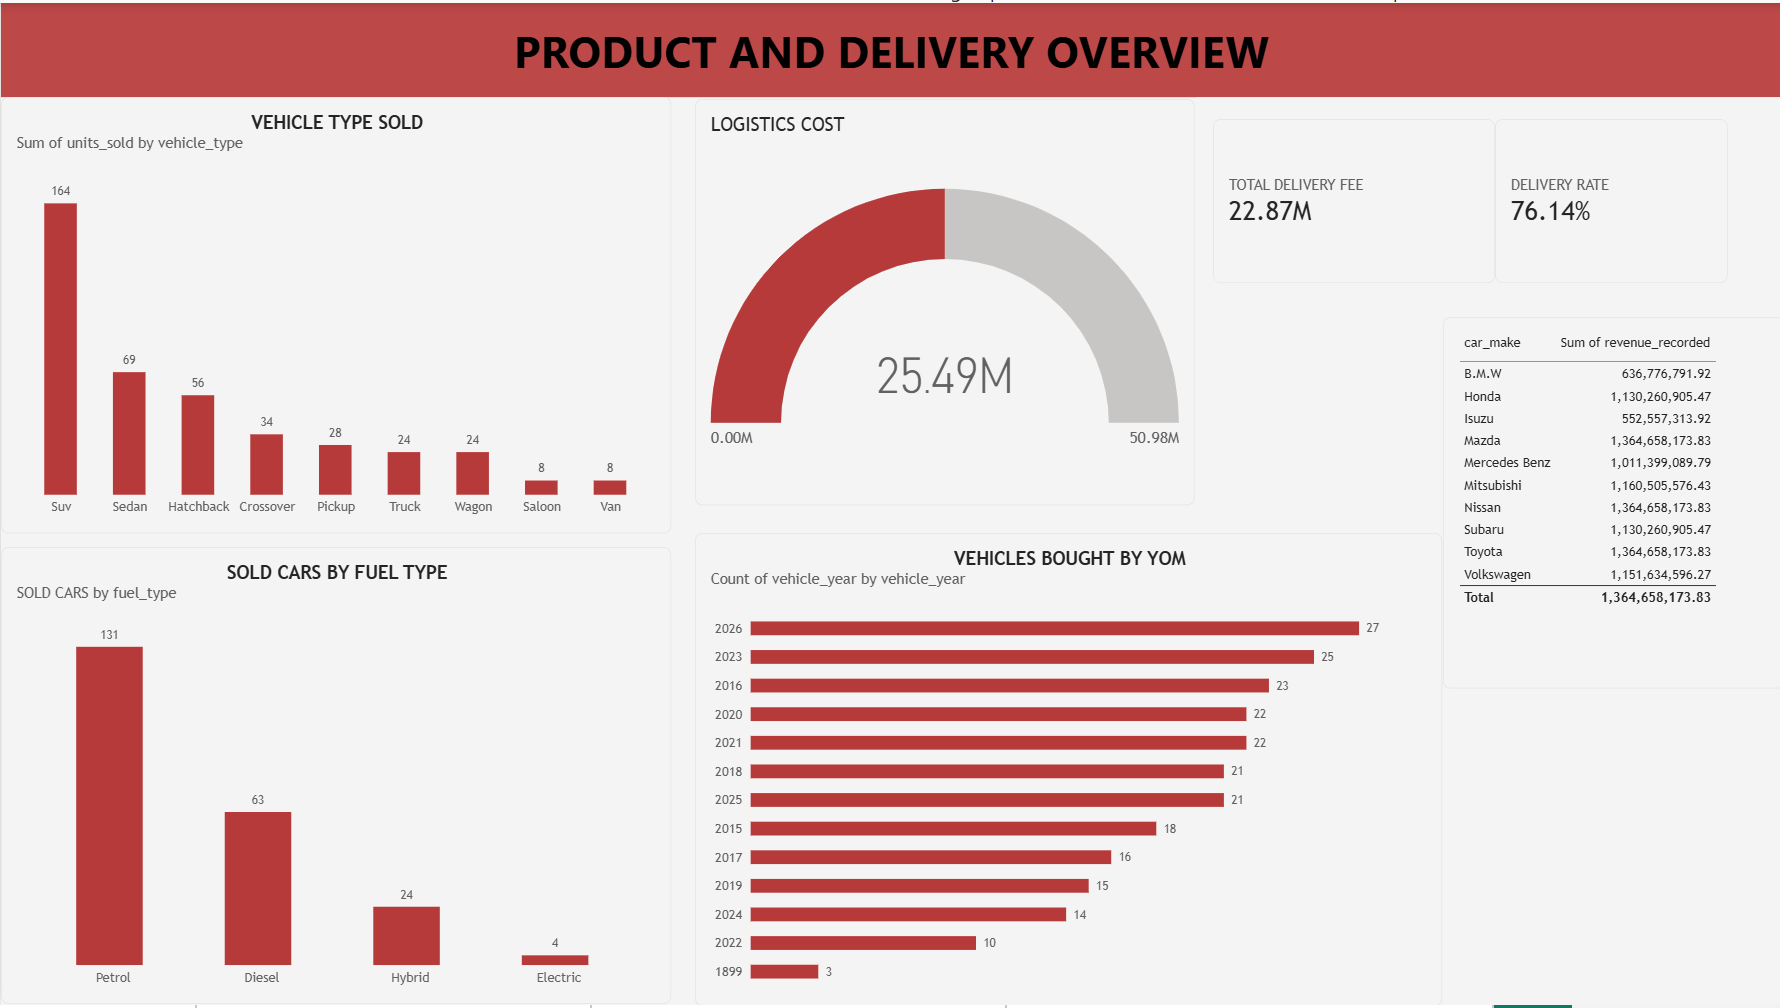

Layout of this report page (visuals, bound fields, positions):
{"tool":"powerbi","page":{"name":"PRODUCT AND DELIVERY OVERVIEW","canvas":[1920,1080],"ordinal":3},"visuals":[{"type":"clusteredColumnChart","title":"SOLD CARS BY FUEL TYPE","fields":{"Category":["facts_sales.fuel_type"],"Y":["facts_sales.SOLD CARS"]},"box":[0,586.7,722.5,492.6],"z":0},{"type":"shape","title":"J CARS AUTOMOTIVE DEALERSHIP","box":[0,0,1920,101.7],"z":1},{"type":"barChart","title":"VEHICLES BOUGHT BY YOM","fields":{"Category":["facts_sales.vehicle_year"],"Y":["CountNonNull(facts_sales.vehicle_year)"]},"box":[748.7,571.4,805.7,510.1],"z":2},{"type":"tableEx","fields":{"Values":["original.car_make","Sum(facts_sales.revenue_recorded)"]},"box":[1554.4,339.3,367.8,400.6],"z":3},{"type":"columnChart","title":"VEHICLE TYPE SOLD","fields":{"Category":["facts.vehicle_type"],"Y":["Sum(facts.units_sold)"]},"box":[0,100.7,722.5,470.7],"z":4},{"type":"gauge","fields":{"Y":["Sum(facts_sales.logistics_cost)"]},"box":[748.7,102.9,538.6,437.9],"z":5},{"type":"cardVisual","fields":{"Data":["Sum(facts_sales.delivery_fee)"]},"box":[1307,124.8,304.3,177.3],"z":6},{"type":"cardVisual","fields":{"Data":["facts_sales.Delivery rate"]},"box":[1611.3,124.8,251.8,177.3],"z":7}]}

Visuals, with their boxes in screenshot pixels (x1, y1, x2, y2), scaled from the page's 1920x1080 canvas onto the 1780x1008 screenshot:
"SOLD CARS BY FUEL TYPE" clusteredColumnChart: <box>0,548,670,1007</box>
"J CARS AUTOMOTIVE DEALERSHIP" shape: <box>0,0,1779,95</box>
"VEHICLES BOUGHT BY YOM" barChart: <box>694,533,1441,1007</box>
tableEx - original.car_make x Sum(facts_sales.revenue_recorded): <box>1441,317,1779,691</box>
"VEHICLE TYPE SOLD" columnChart: <box>0,94,670,533</box>
gauge - Sum(facts_sales.logistics_cost): <box>694,96,1193,505</box>
cardVisual - Sum(facts_sales.delivery_fee): <box>1212,116,1494,282</box>
cardVisual - facts_sales.Delivery rate: <box>1494,116,1727,282</box>
